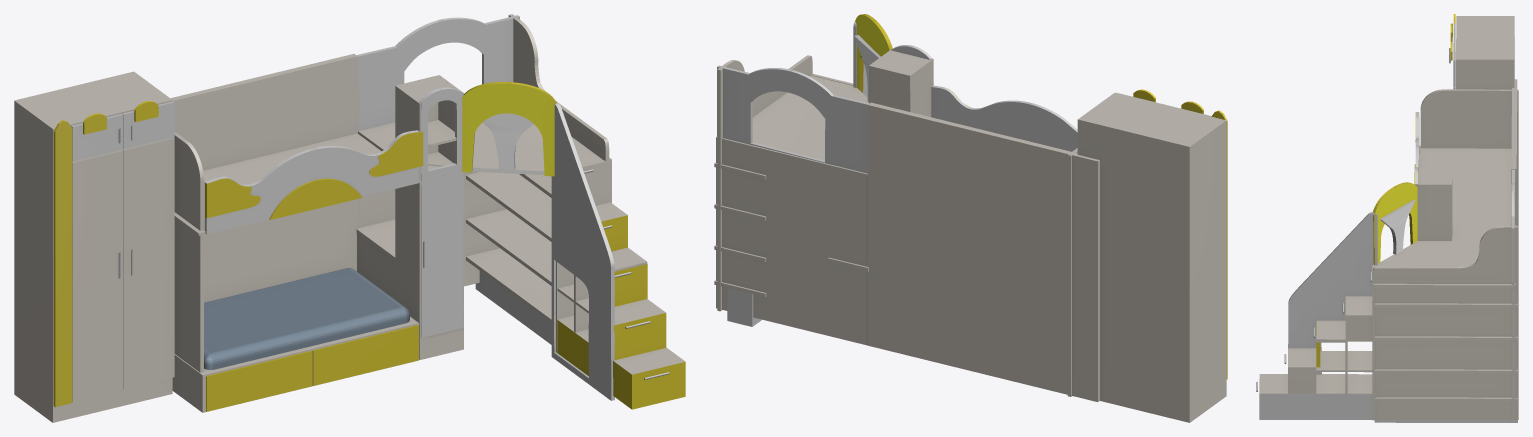
The model's file is raw_model.obj.
3 views of the same model, side by side, from view 1: azimuth 30°, elevation 25°; view 2: azimuth 150°, elevation 25°; view 3: azimuth 270°, elevation 25° (orthographic). The views are drawn at different scales.
Parts seen in each view (by area): view 1: solid_003, solid_002, solid_004, solid_001; view 2: solid_003, solid_002, solid_004; view 3: solid_003, solid_002, solid_004.
Part boxes in pixels (<box>): solid_003: <box>14,14,685,422</box>; solid_002: <box>71,15,614,400</box>; solid_004: <box>53,82,685,411</box>; solid_001: <box>204,268,409,369</box>; solid_003: <box>714,49,1226,422</box>; solid_002: <box>717,21,1211,326</box>; solid_004: <box>855,14,1227,379</box>; solid_003: <box>1259,16,1518,420</box>; solid_002: <box>1259,23,1517,422</box>; solid_004: <box>1316,14,1455,367</box>.
Bounding box in the file's own units: 3.01 × 1.77 × 1.81.
Materials: 1 (1 with a texture image).
